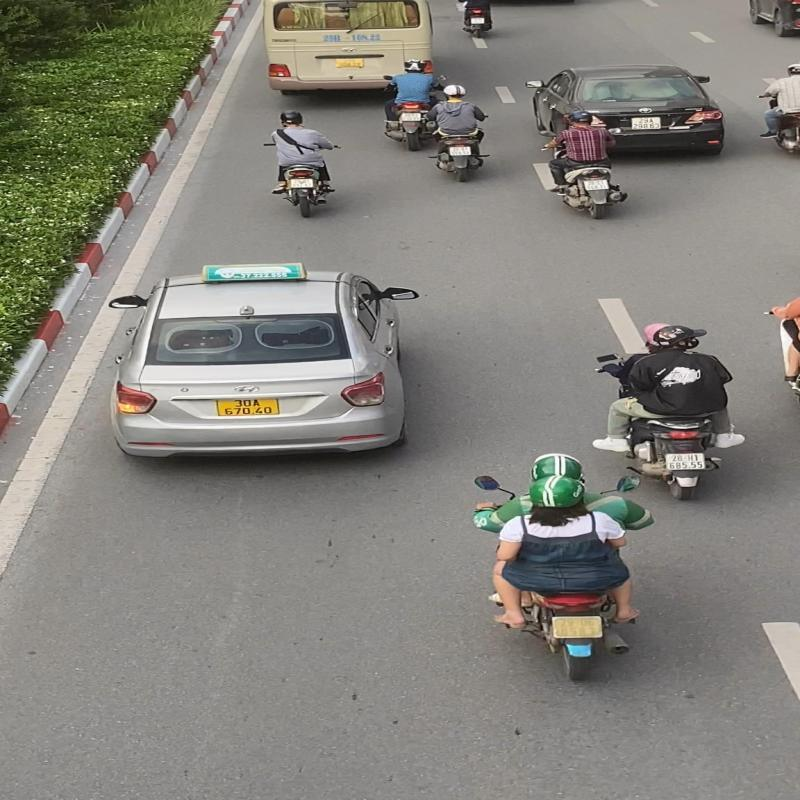helmet: (526, 474, 591, 510), (528, 450, 588, 482), (652, 323, 713, 350)
licenseplate: (550, 614, 606, 641), (661, 451, 710, 472)
